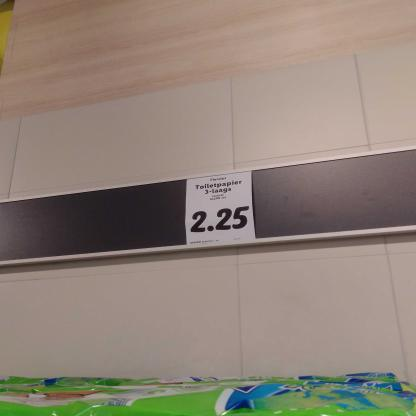prtg: (186, 172, 257, 246)
